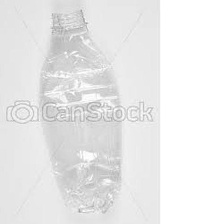bottle: (35, 4, 135, 217)
